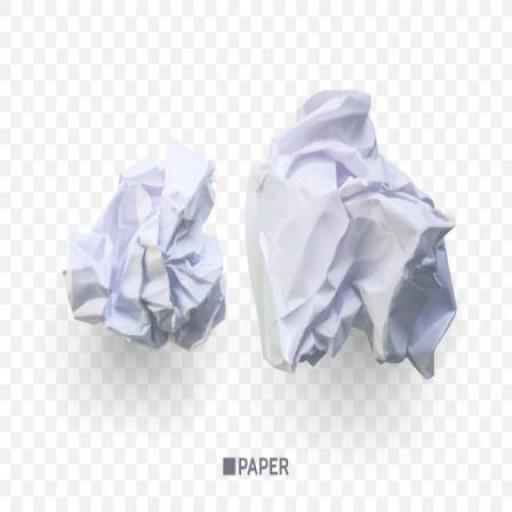paper: (240, 66, 467, 437), (38, 106, 228, 431)
